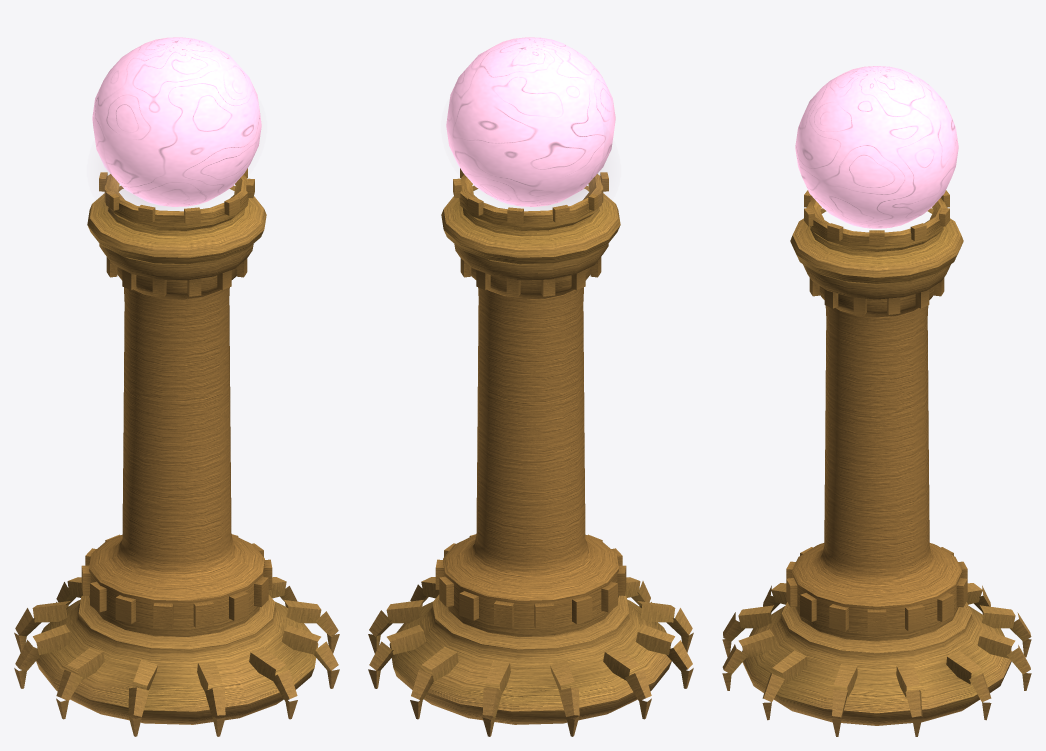
The model's file is mm7_deco_dec71.glb.
3 renders of one model, left to right at view 1: azimuth 30°, elevation 25°; view 2: azimuth 150°, elevation 25°; view 3: azimuth 270°, elevation 25°, orthographic. The views are drawn at different scales.
Parts seen in each view (by area): view 1: Pedestal; view 2: Pedestal; view 3: Pedestal.
Boxes of the visible parts, x1,y1,x2,y2 form: Pedestal: (14, 37, 339, 736); Pedestal: (368, 37, 693, 736); Pedestal: (722, 66, 1031, 736).
Size of the model in its own units: 1.13 by 2.46 by 1.13.
3 materials, 3 textured.
